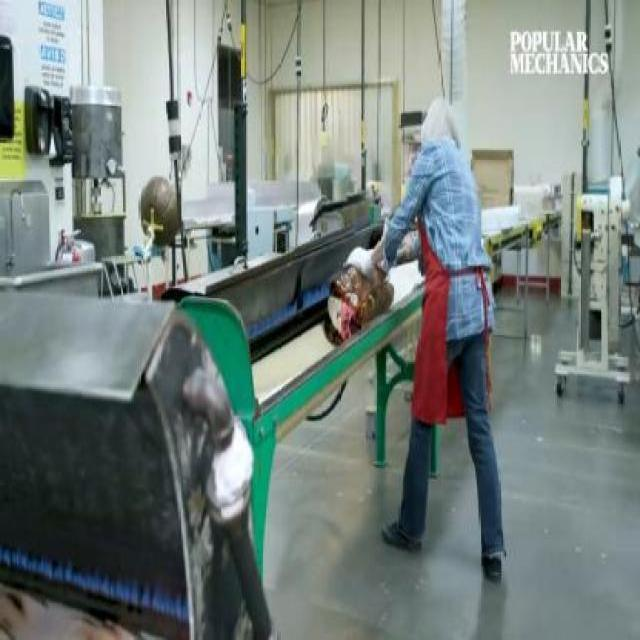gloved_hand: (343, 234, 381, 283)
